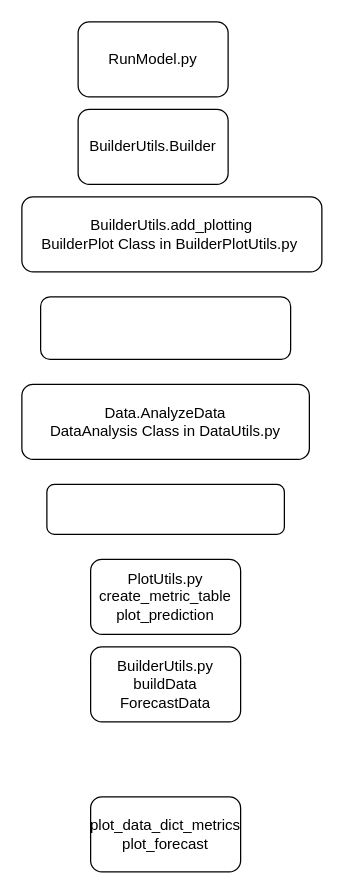
The diagram is 344 pixels wide and 894 high, and some of its shapes have lost their labels. The box of each missing label's shape, as (x1, y1, x2, y2) in pixels:
Data.ModelData Model Class in ModelUtils.py: (46, 483, 284, 534)
Data.PrepData DataPrep Class in DataUtils.py: (39, 296, 291, 359)
